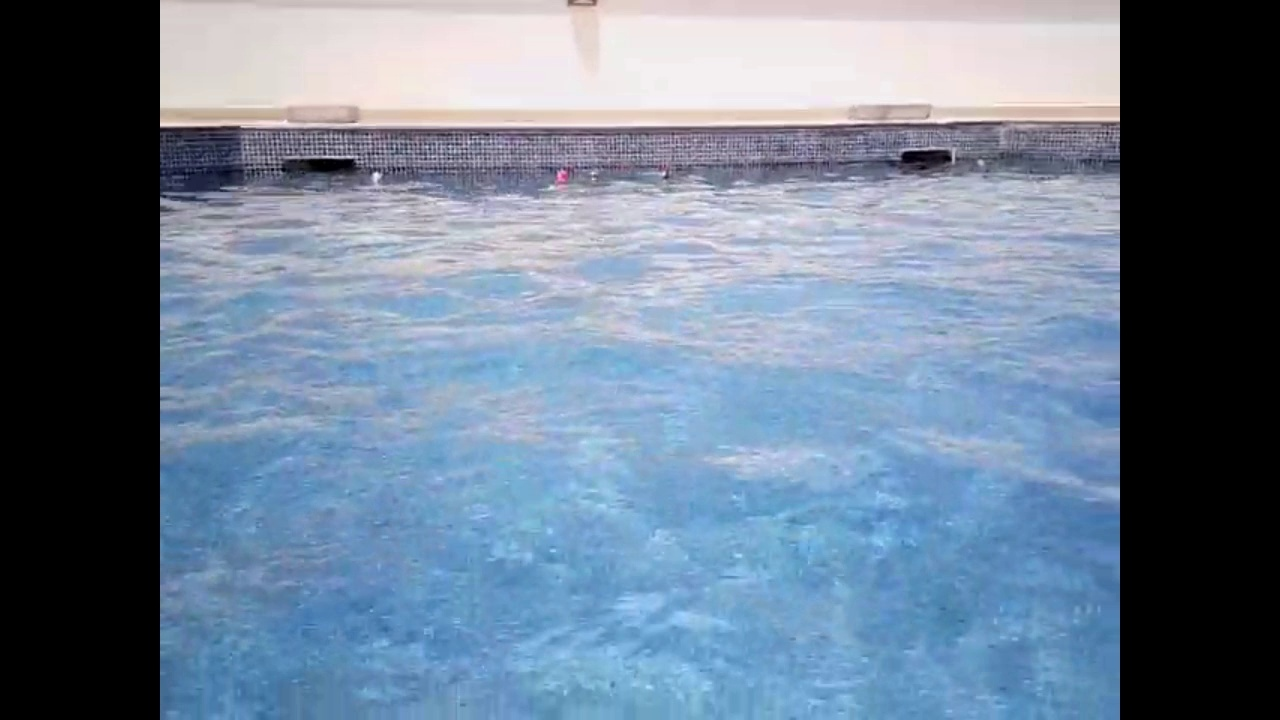debris: (584, 166, 602, 183), (367, 170, 384, 187), (554, 166, 571, 183), (660, 165, 674, 183), (974, 154, 987, 173)
